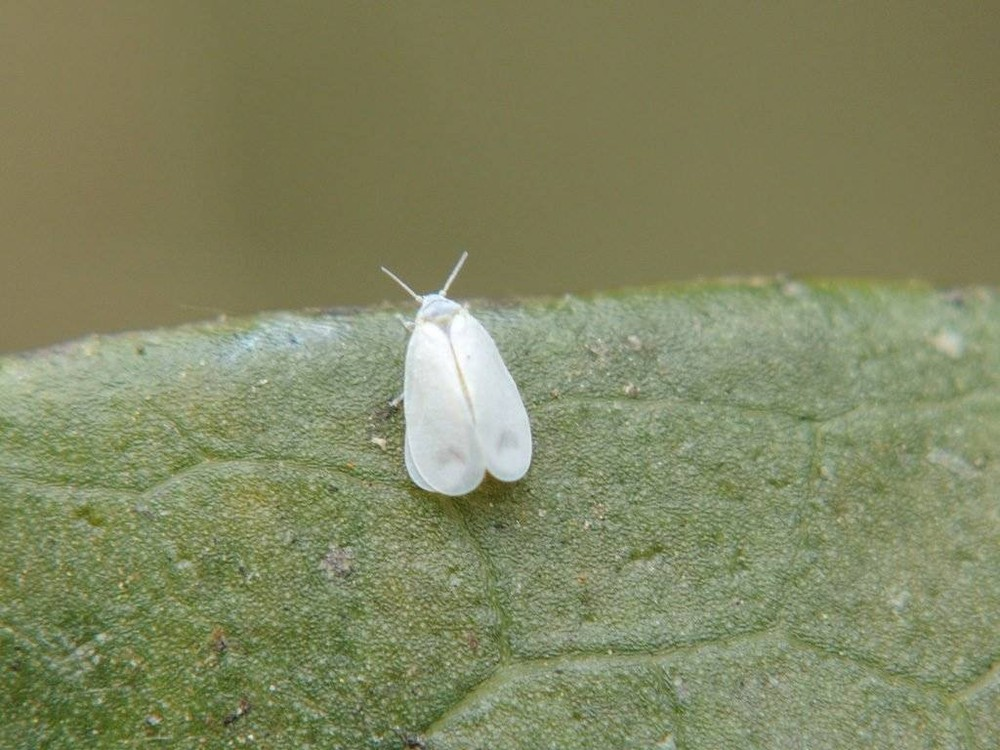Mosca Blanca: (352, 226, 582, 520)
